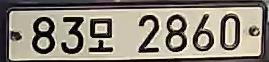0: (217, 12, 243, 52)
2: (133, 12, 164, 56)
3: (58, 14, 86, 54)
6: (190, 12, 218, 54)
8: (30, 14, 58, 56), (163, 12, 191, 54)
모: (86, 15, 117, 56)
